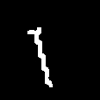half_double_crochet: (28, 28, 51, 86)
